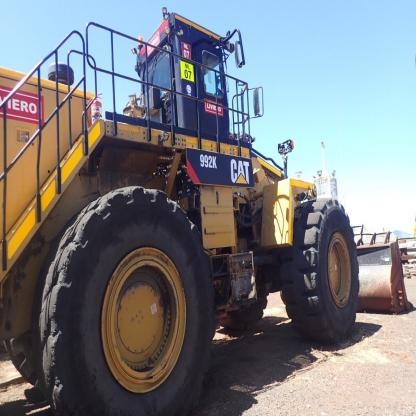bull_dozer/loader/grader: (6, 1, 414, 416)
